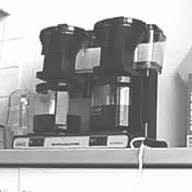not empty coffee: (85, 72, 147, 134)
